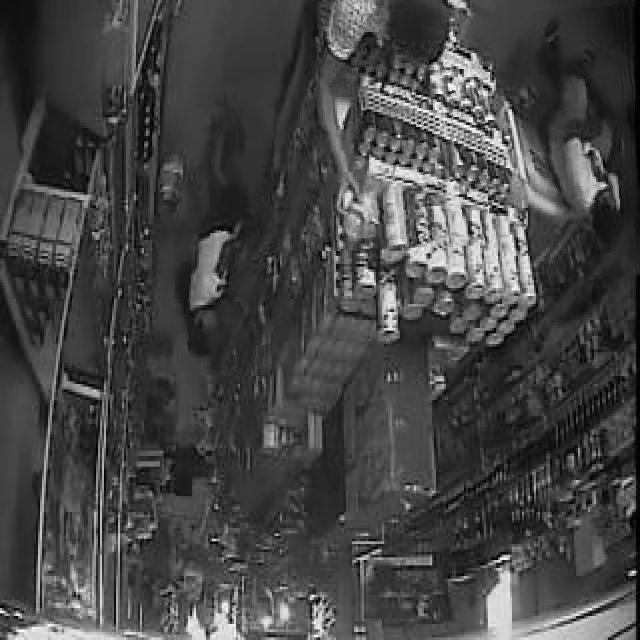Normal: (304, 0, 487, 251), (164, 105, 274, 375), (535, 7, 640, 283)
